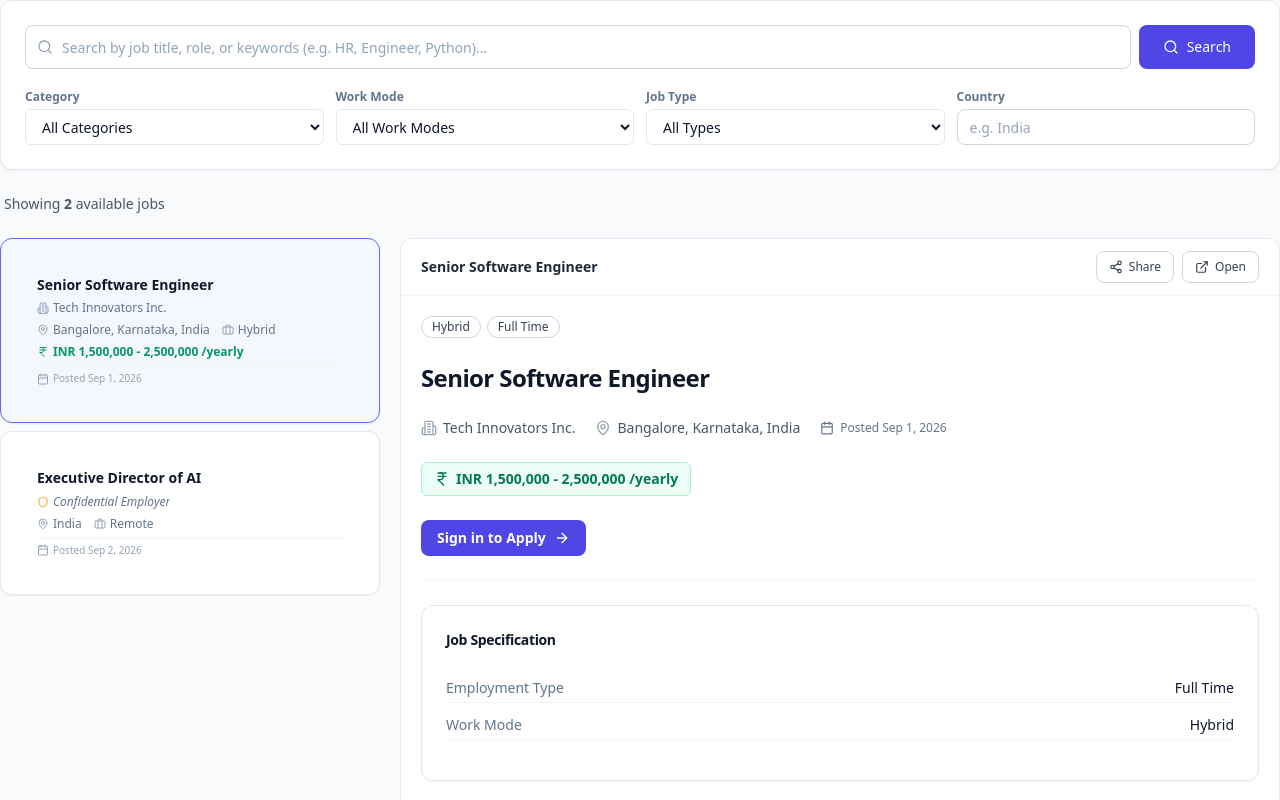
Test: Public Jobs Listing & Discovery Suite › selects a card and updates the split-view detail pane with a new-tab link
Check: the heading with test id "detail-pane-heading" reads "Senior Software Engineer", box [421,361,710,394]
Click the element with test id "public-job-card" that starts with "Executive Director of AI". click: click(190, 513)
box: [0,431,380,595]
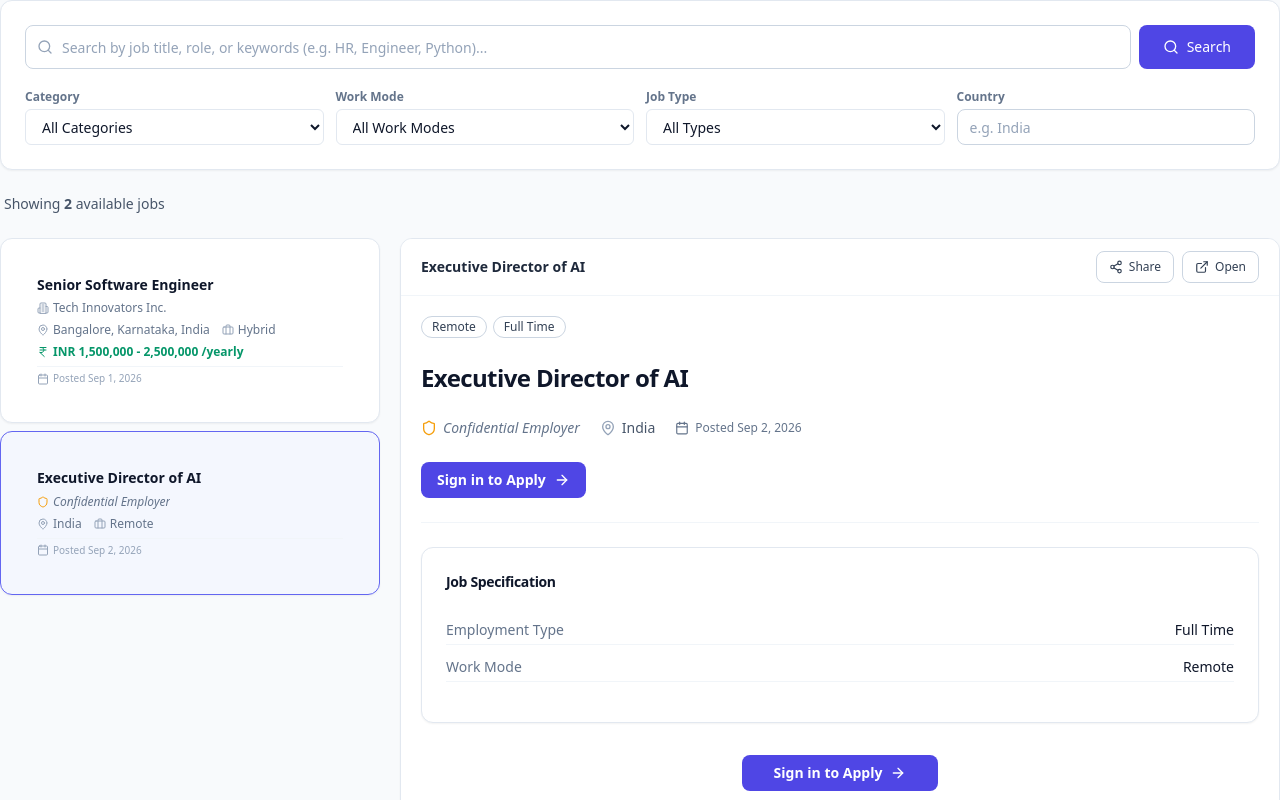
Check: the heading with test id "detail-pane-heading" reads "Executive Director of AI", box [421,361,688,394]
